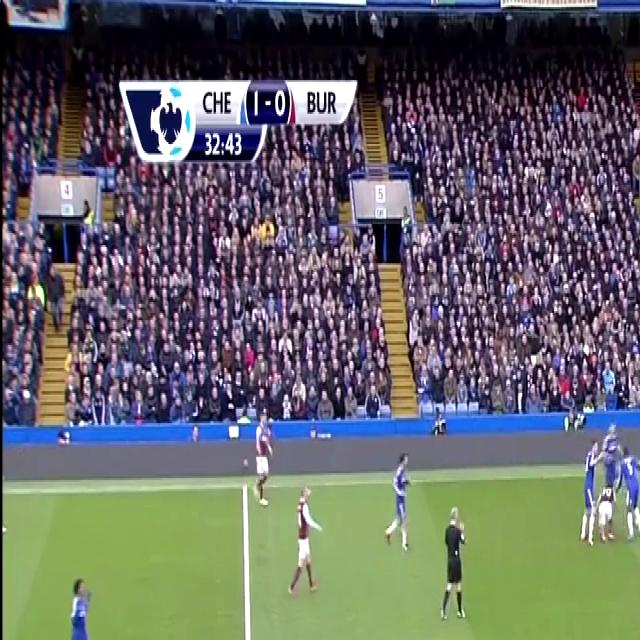referee: (438, 492, 472, 624)
soccer-player: (286, 478, 330, 608), (380, 441, 416, 561), (588, 440, 621, 554), (59, 560, 99, 640), (249, 403, 277, 514), (578, 432, 604, 550), (617, 432, 640, 546)
